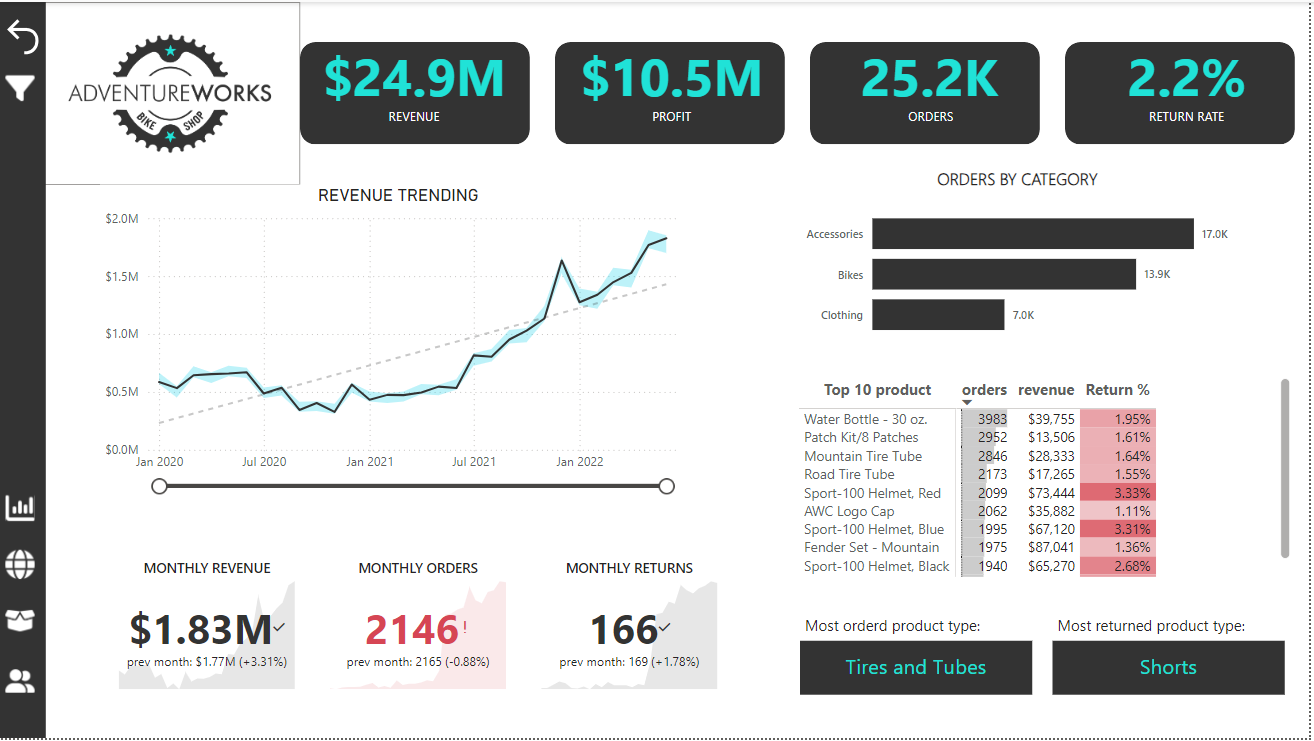

This screenshot's page, from the dashboard's own definition file:
{"tool":"powerbi","page":{"name":"Exec dashboard","canvas":[1280,720],"ordinal":0},"visuals":[{"type":"image","title":"AW Logo","box":[40.4,0,253.1,178.5],"z":0},{"type":"card","fields":{"Values":["Measure Table.Total profit"]},"box":[538,18.3,238.5,121.1],"z":0,"group":"g2"},{"type":"group","id":"g1","title":"kpi background","box":[293.4,39.1,973.4,100.3],"z":0,"group":"g3"},{"type":"shape","box":[293.4,39.1,225,100.3],"z":0,"group":"g1"},{"type":"actionButton","box":[0.9,472,36.7,46.5],"z":0,"group":"g4"},{"type":"shape","title":"left nev  background","box":[0,0,45,720.2],"z":1000},{"type":"group","id":"g2","title":"kpi values","box":[286.1,18.3,993.9,121.1],"z":1000,"group":"g3"},{"type":"card","fields":{"Values":["Measure Table.Total orders"]},"box":[789.9,18.3,238.5,121.1],"z":1000,"group":"g2"},{"type":"shape","box":[1041.8,39.1,225,100.3],"z":1000,"group":"g1"},{"type":"actionButton","box":[0.9,527,36.7,46.5],"z":1000,"group":"g4"},{"type":"group","id":"g3","title":"kpi","box":[286.1,18.3,993.9,121.1],"z":2000},{"type":"card","fields":{"Values":["Measure Table.Return rate"]},"box":[1041.5,18.3,238.5,121.1],"z":2000,"group":"g2"},{"type":"shape","box":[792.3,39.1,225,100.3],"z":2000,"group":"g1"},{"type":"actionButton","box":[0.9,582.1,36.7,46.5],"z":2000,"group":"g4"},{"type":"card","fields":{"Values":["Measure Table.Total revenue"]},"box":[286.1,18.3,238.5,121.1],"z":3000,"group":"g2"},{"type":"shape","box":[542.9,39.1,225,100.3],"z":3000,"group":"g1"},{"type":"lineChart","title":"REVENUE TRENDING","fields":{"Y":["Measure Table.Total revenue"],"Category":["Calendar Lookup.Start of Month"]},"box":[97.8,178.5,583.3,305.7],"z":3000},{"type":"actionButton","box":[0.9,637.1,36.7,53.8],"z":3000,"group":"g4"},{"type":"kpi","title":"MONTHLY REVENUE","fields":{"TrendLine":["Calendar Lookup.Start of Month"],"Goal":["Measure Table.Previous month revenue"],"Indicator":["Measure Table.Total revenue"]},"box":[111.3,544.2,182.2,133.3],"z":4000},{"type":"kpi","title":"MONTHLY RETURNS","fields":{"TrendLine":["Calendar Lookup.Start of Month"],"Indicator":["Measure Table.Total Retturns"],"Goal":["Measure Table.Previous month returns"]},"box":[524.6,544.2,182.2,133.3],"z":5000},{"type":"kpi","title":"MONTHLY ORDERS","fields":{"TrendLine":["Calendar Lookup.Start of Month"],"Indicator":["Measure Table.Total orders"],"Goal":["Measure Table.Previous month orders"]},"box":[317.9,544.2,182.2,133.3],"z":6000},{"type":"barChart","title":"ORDERS BY CATEGORY","fields":{"Category":["Product Categories Lookup.CategoryName"],"Y":["Measure Table.Total orders"]},"box":[782.6,161.4,425.5,182.2],"z":7000},{"type":"pivotTable","fields":{"Rows":["Product Lookup.ProductName"],"Values":["Measure Table.Total orders","Measure Table.Total revenue","Measure Table.Return rate"]},"box":[776.5,363.2,490.4,204.2],"z":8000},{"type":"card","fields":{"Values":["Min(Product Subcategories Lookup.SubcategoryName)"]},"box":[782.6,624.9,227.4,52.6],"z":9000},{"type":"textbox","box":[782.2,594.5,213.3,29.9],"z":10000},{"type":"card","fields":{"Values":["Min(Product Subcategories Lookup.SubcategoryName)"]},"box":[1029.4,625.1,227.4,52.6],"z":11000},{"type":"textbox","box":[1029.7,594.5,211.9,31.3],"z":12000},{"type":"actionButton","box":[0,7.3,45.2,52.6],"z":13000},{"type":"group","id":"g4","title":"nevigation buttons","box":[0.9,472,36.7,218.9],"z":14000},{"type":"actionButton","box":[1.2,63.6,36.7,41.6],"z":15000}]}

Visuals, with their boxes on the page's 1280x720 design canvas (x1, y1, x2, y2). These are canvas units, not pixel positions in the 1314x741 screenshot, which may show the page scaled, cropped or inside an application window:
"AW Logo" image: 40/0/294/178
card - Measure Table.Total profit: 538/18/776/139
"kpi background" group: 293/39/1267/139
shape: 293/39/518/139
actionButton: 1/472/38/518
"left nev  background" shape: 0/0/45/720
"kpi values" group: 286/18/1280/139
card - Measure Table.Total orders: 790/18/1028/139
shape: 1042/39/1267/139
actionButton: 1/527/38/574
"kpi" group: 286/18/1280/139
card - Measure Table.Return rate: 1042/18/1280/139
shape: 792/39/1017/139
actionButton: 1/582/38/629
card - Measure Table.Total revenue: 286/18/525/139
shape: 543/39/768/139
"REVENUE TRENDING" lineChart: 98/178/681/484
actionButton: 1/637/38/691
"MONTHLY REVENUE" kpi: 111/544/294/678
"MONTHLY RETURNS" kpi: 525/544/707/678
"MONTHLY ORDERS" kpi: 318/544/500/678
"ORDERS BY CATEGORY" barChart: 783/161/1208/344
pivotTable - Product Lookup.ProductName x Measure Table.Total orders: 776/363/1267/567
card - Min(Product Subcategories Lookup.SubcategoryName): 783/625/1010/678
textbox: 782/594/996/624
card - Min(Product Subcategories Lookup.SubcategoryName): 1029/625/1257/678
textbox: 1030/594/1242/626
actionButton: 0/7/45/60
"nevigation buttons" group: 1/472/38/691
actionButton: 1/64/38/105
